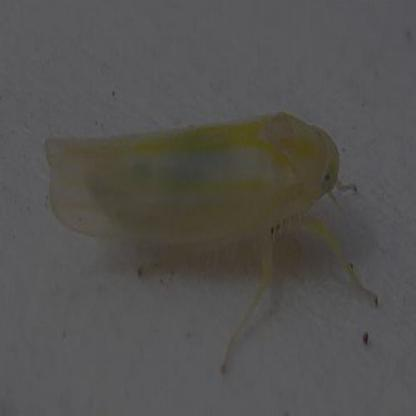green-leafhopper: (46, 124, 338, 270)
